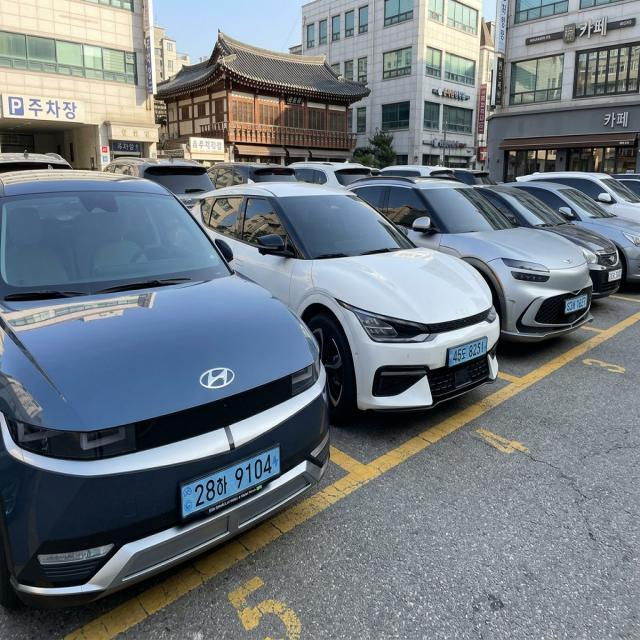car: (177, 438, 295, 535), (445, 333, 492, 369), (562, 290, 591, 315), (605, 267, 628, 283)
carev: (179, 483, 196, 521), (271, 449, 281, 478), (449, 350, 454, 367), (483, 341, 487, 354)
